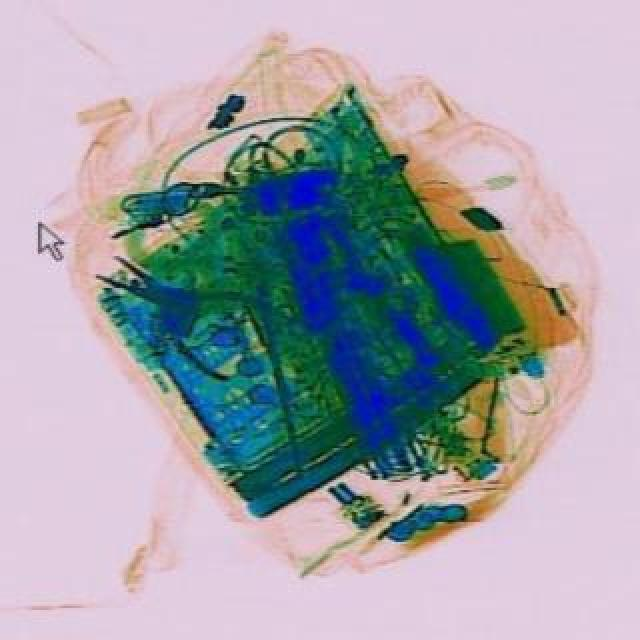wrench: (76, 224, 296, 396)
